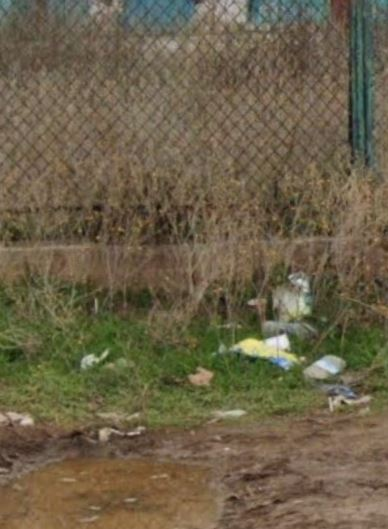trash: (213, 247, 374, 423), (70, 343, 123, 379), (167, 359, 221, 390)
